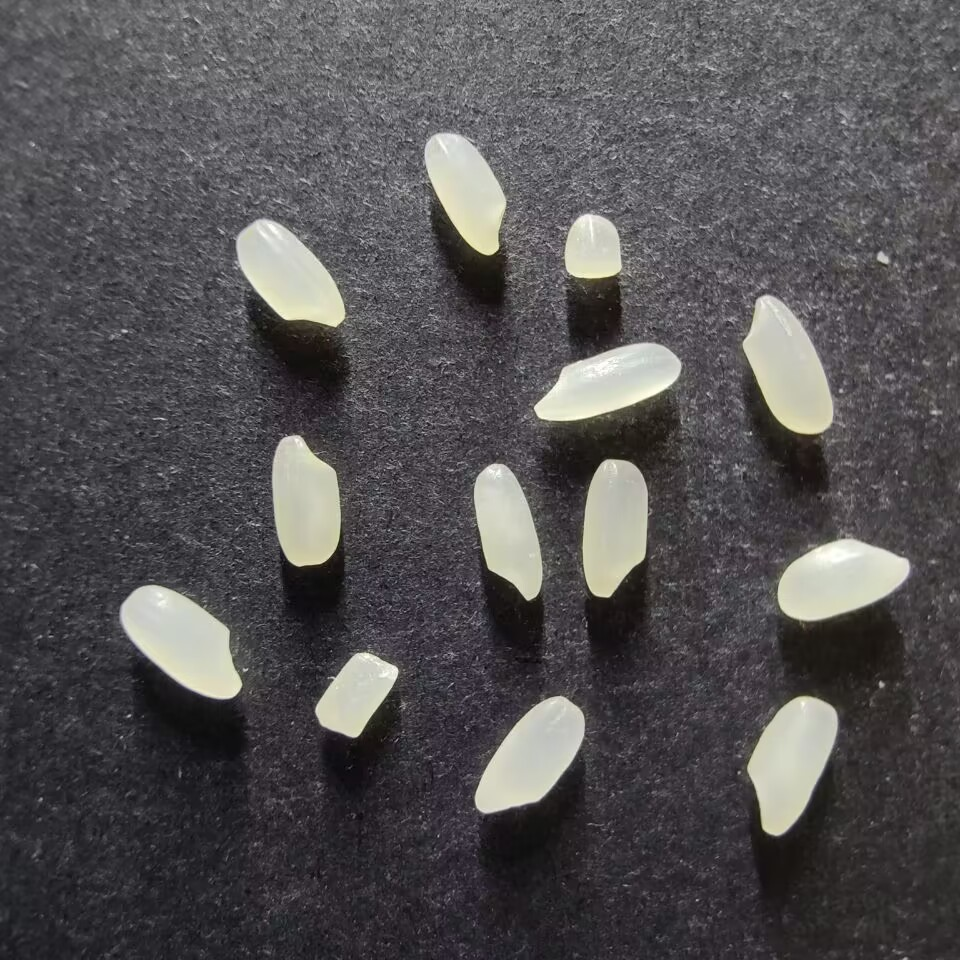broken: (314, 651, 398, 738), (564, 212, 622, 279)
rice: (119, 584, 242, 700), (741, 293, 834, 435), (746, 694, 837, 837), (473, 696, 584, 813), (235, 218, 346, 328), (533, 342, 680, 421), (776, 539, 910, 621), (423, 131, 505, 256), (472, 463, 543, 602), (581, 458, 648, 598), (270, 434, 340, 567)
